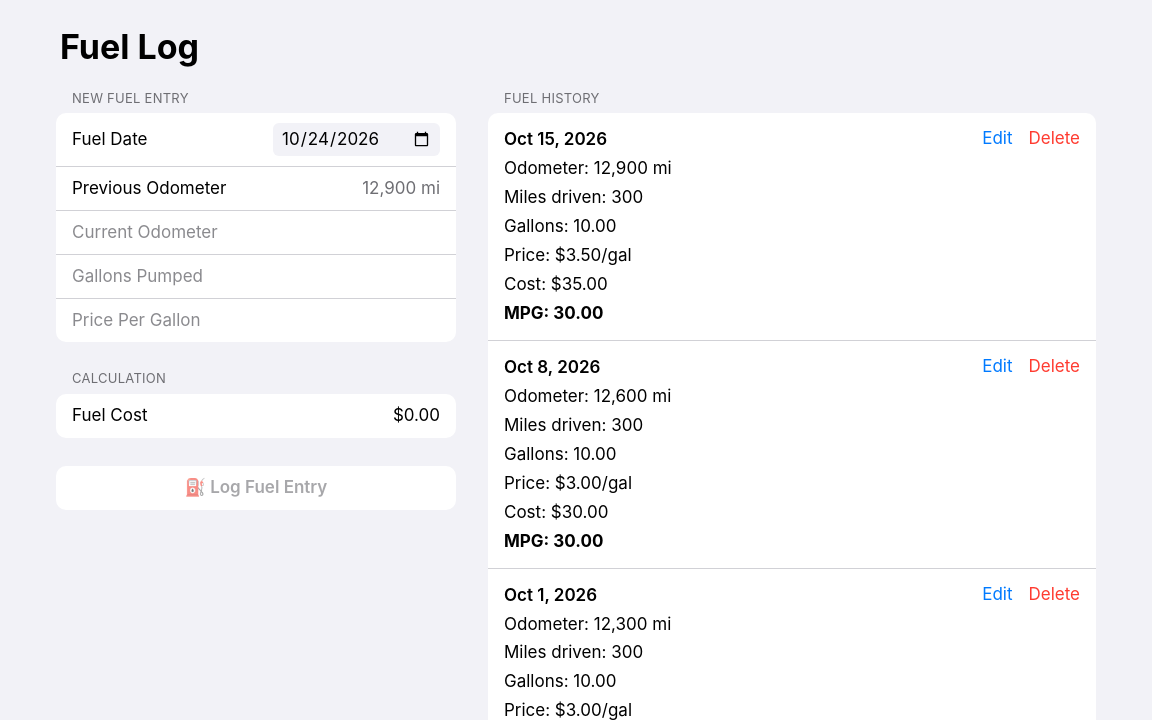
new fuel entry › explains why an equal or lower odometer is blocked
Expected: the text "Oct 15, 2026" is shown, [504, 129, 607, 149]
Type "12900" into the field labelled "Current Odometer".
click(256, 233); type("12900")  # box [72, 221, 440, 244]
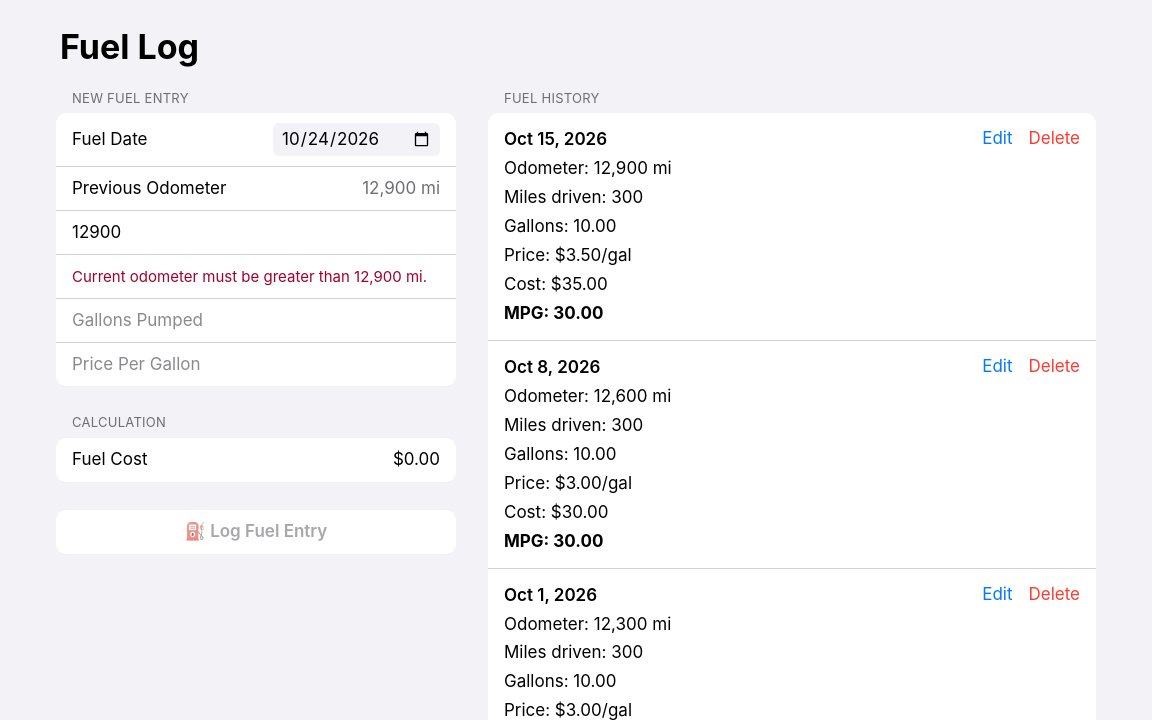
Result: the text "Current odometer must be greater than 12,900 mi." is shown at [56, 254, 456, 298]
Clear the field named "Current Odometer" at (256, 233), box [72, 221, 440, 244]
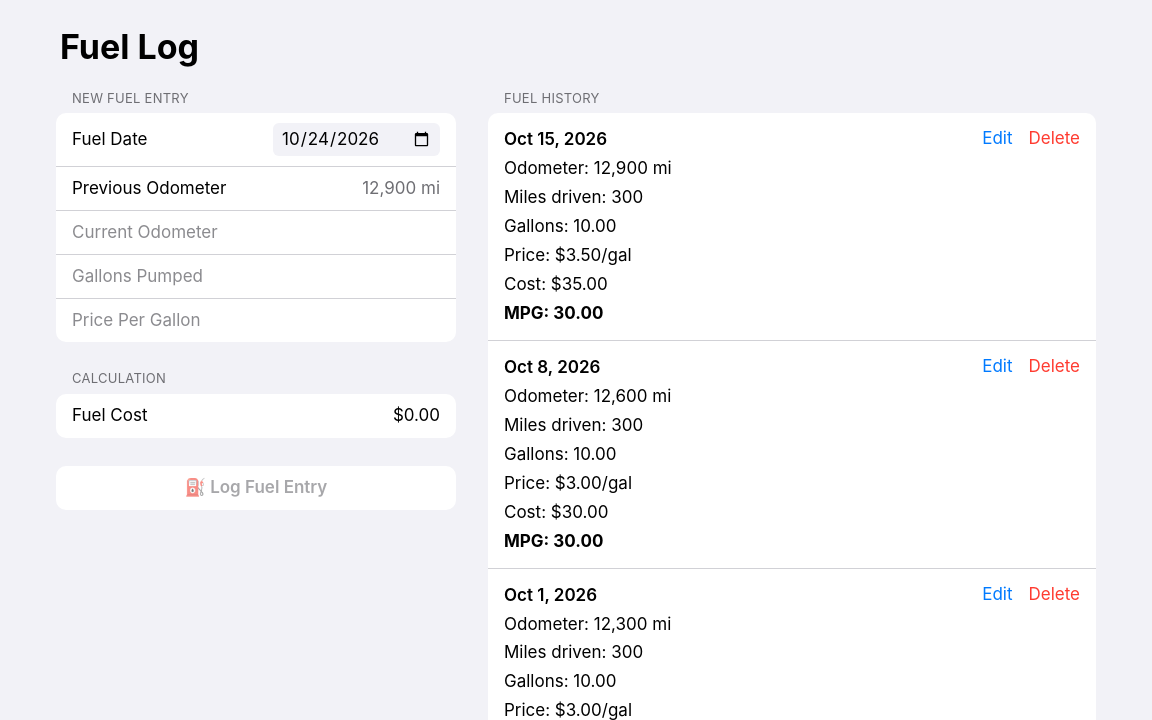
Result: the text "Current odometer must be greater" is gone
